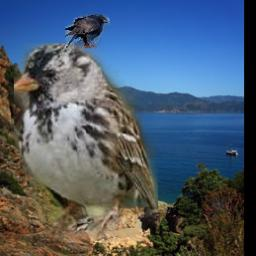Crow: (64, 14, 109, 48)
Sparrow: (14, 44, 158, 242)
